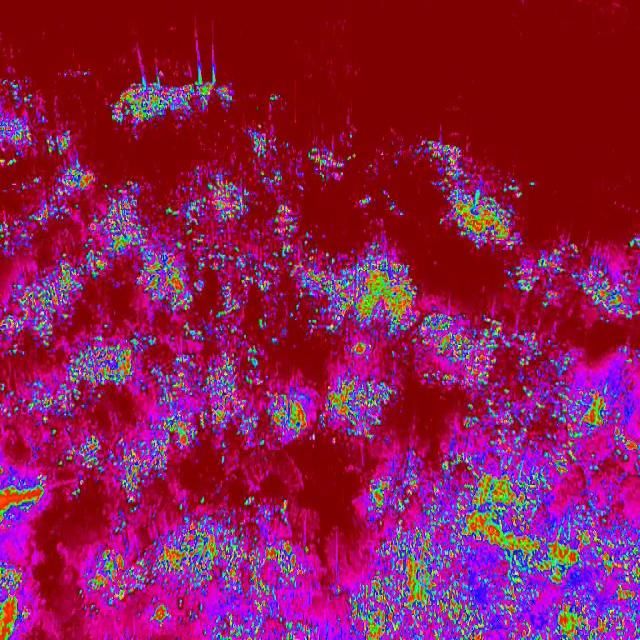fire: (81, 169, 262, 640), (363, 447, 640, 640), (0, 67, 81, 640), (446, 330, 640, 449), (421, 132, 531, 250), (505, 230, 640, 319), (402, 294, 512, 394), (261, 370, 397, 445), (262, 202, 328, 347), (329, 240, 414, 350), (262, 496, 324, 640), (108, 75, 236, 139), (250, 126, 358, 196), (326, 576, 364, 640)
